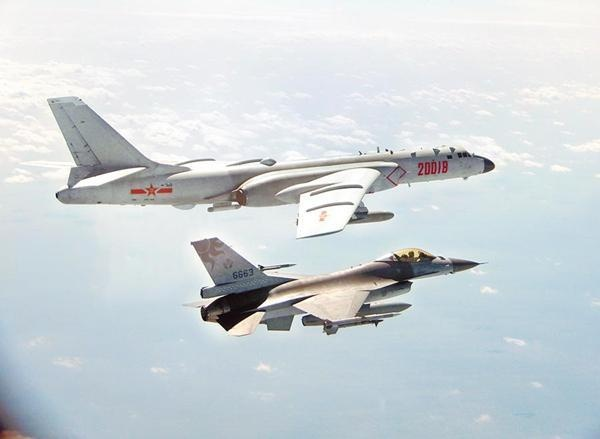airplane: (37, 101, 496, 239), (162, 231, 489, 345)
